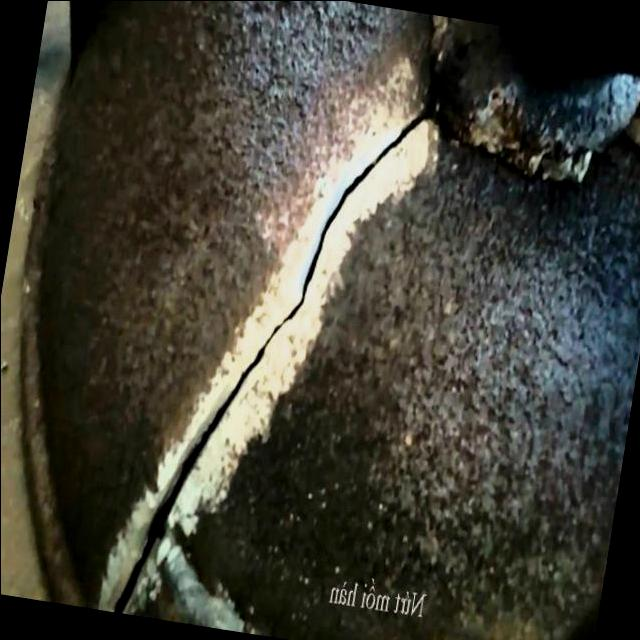defect: (110, 93, 437, 610)
